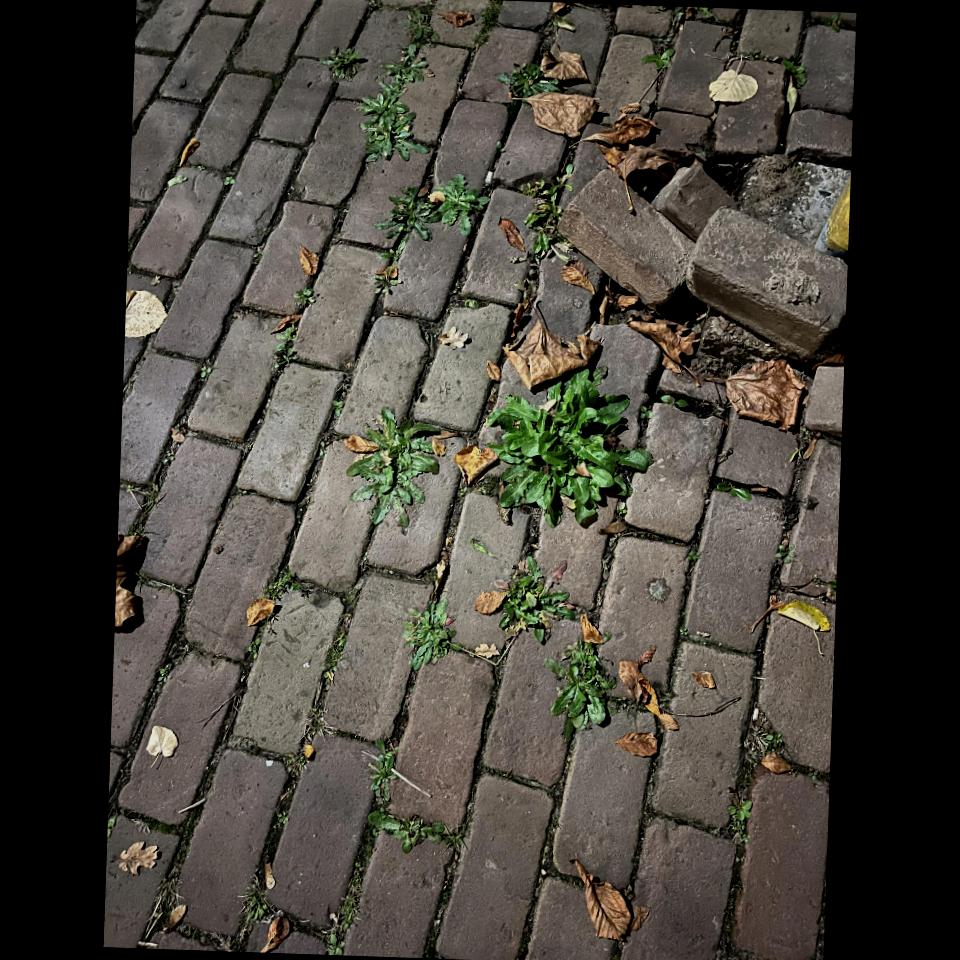weed: (489, 371, 652, 527), (345, 407, 439, 528), (474, 556, 576, 644), (358, 44, 429, 161), (375, 174, 488, 243), (545, 642, 615, 740), (326, 830, 374, 955), (522, 164, 573, 265), (404, 599, 464, 671), (369, 810, 461, 853), (497, 63, 562, 99), (363, 740, 398, 802), (321, 48, 366, 80)
